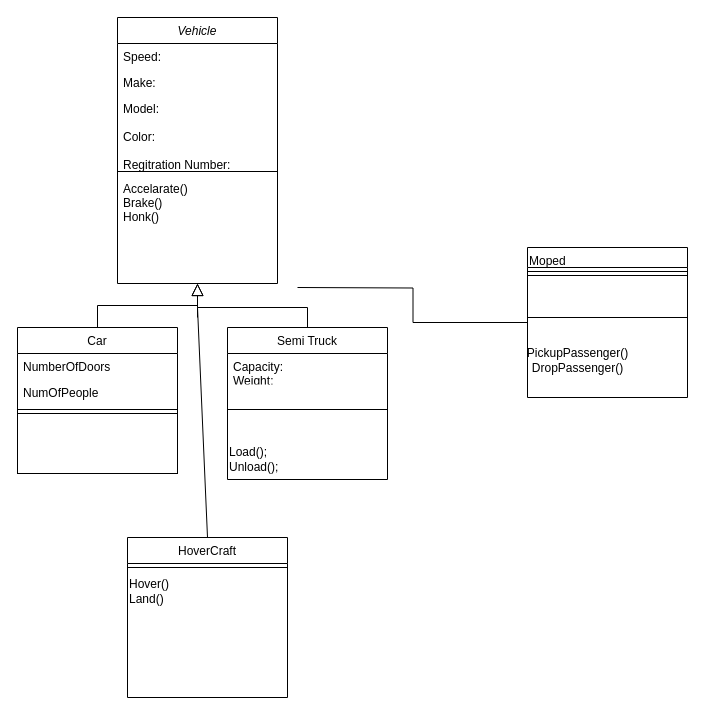
Some shapes in this 705 by 715 pixel diagram are drawn without their labels. The centre of each missing label's shape, as x and y in pixels:
Boolean hasPassenger: (607,296)
Drift(): (97,443)
